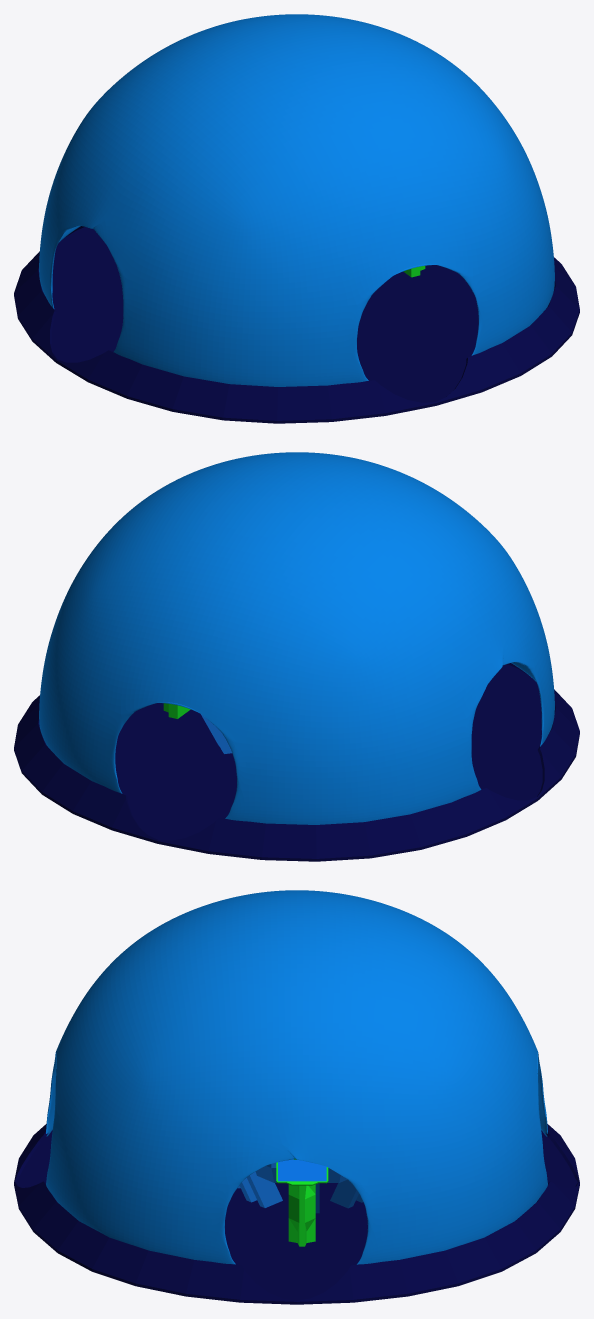
Rendered from DOME_UPGRATE.fbx.
3 renders of one model, top to bottom at view 1: azimuth 30°, elevation 25°; view 2: azimuth 150°, elevation 25°; view 3: azimuth 270°, elevation 25°, orthographic.
Parts seen in each view (by area): view 1: Cube.003; view 2: Cube.003; view 3: Cube.003, console.001, projector_LOD0.
Part boxes in pixels (box(x1,y1,x2,y2)): Cube.003: box(14, 14, 579, 423); Cube.003: box(14, 452, 579, 861); Cube.003: box(14, 890, 579, 1304); console.001: box(276, 1158, 328, 1246); projector_LOD0: box(237, 1162, 362, 1213).
Bounding box in the file's own units: 1409 × 733 × 1409.
